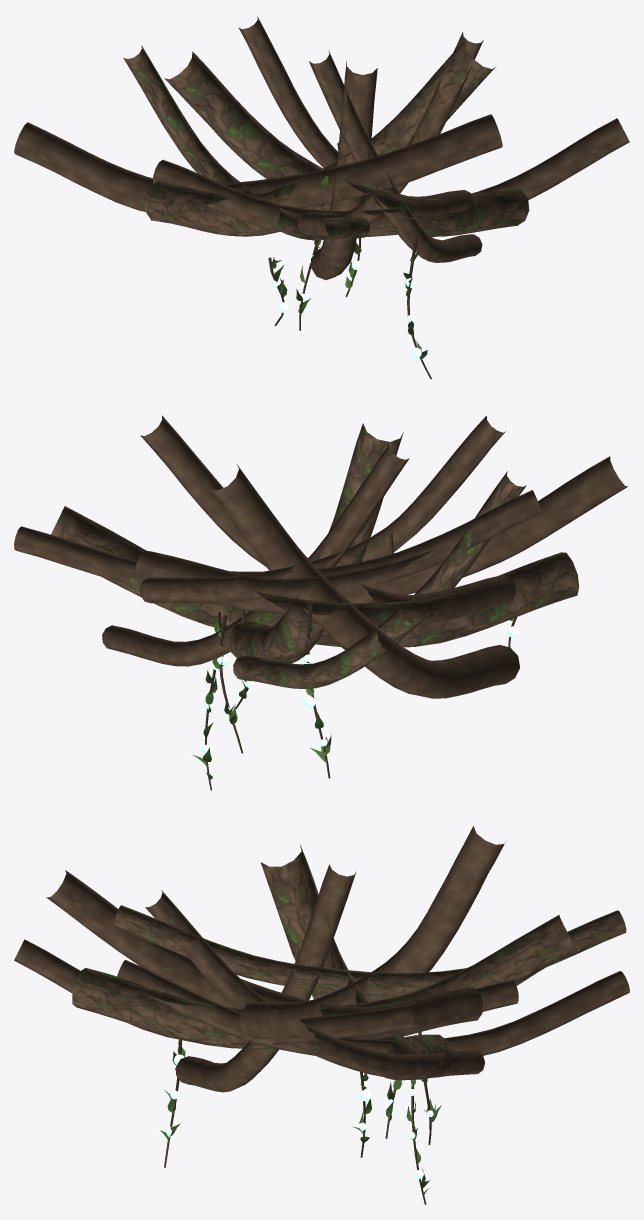
Rendered from mod_ceiling_roots_4m.glb.
The picture shows the model from 3 angles, top to bottom: view 1: azimuth 30°, elevation 25°; view 2: azimuth 150°, elevation 25°; view 3: azimuth 270°, elevation 25°; orthographic projection. The views are drawn at different scales.
Parts seen in each view (by area): view 1: mod_ceiling_roots_4m__root, mod_ceiling_roots_4m__bark, mod_ceiling_roots_4m__leaf, mod_ceiling_roots_4m__glow_core; view 2: mod_ceiling_roots_4m__root, mod_ceiling_roots_4m__bark, mod_ceiling_roots_4m__leaf, mod_ceiling_roots_4m__glow_core; view 3: mod_ceiling_roots_4m__root, mod_ceiling_roots_4m__bark, mod_ceiling_roots_4m__leaf, mod_ceiling_roots_4m__glow_core.
Part boxes in pixels (bbox=[...]): mod_ceiling_roots_4m__root: bbox=[14, 16, 629, 379]; mod_ceiling_roots_4m__bark: bbox=[123, 41, 529, 240]; mod_ceiling_roots_4m__leaf: bbox=[270, 176, 427, 359]; mod_ceiling_roots_4m__glow_core: bbox=[271, 253, 421, 357]; mod_ceiling_roots_4m__root: bbox=[14, 415, 627, 790]; mod_ceiling_roots_4m__bark: bbox=[51, 423, 578, 688]; mod_ceiling_roots_4m__leaf: bbox=[193, 551, 513, 779]; mod_ceiling_roots_4m__glow_core: bbox=[202, 626, 518, 754]; mod_ceiling_roots_4m__root: bbox=[14, 826, 629, 1204]; mod_ceiling_roots_4m__bark: bbox=[72, 844, 626, 1080]; mod_ceiling_roots_4m__leaf: bbox=[160, 1040, 441, 1196]; mod_ceiling_roots_4m__glow_core: bbox=[164, 1054, 433, 1179].
Size of the model in its own units: 6 by 2.72 by 6.34.
5 materials, 4 textured.
